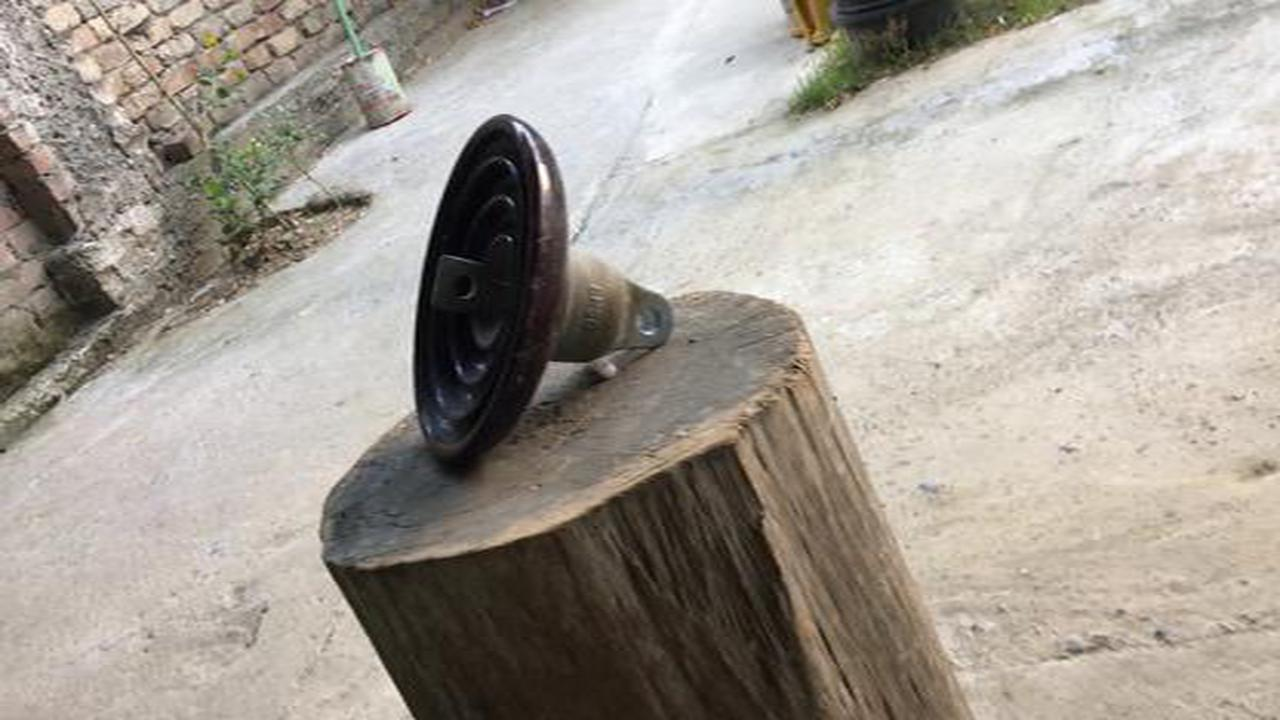insulator_disc: (403, 108, 682, 485)
